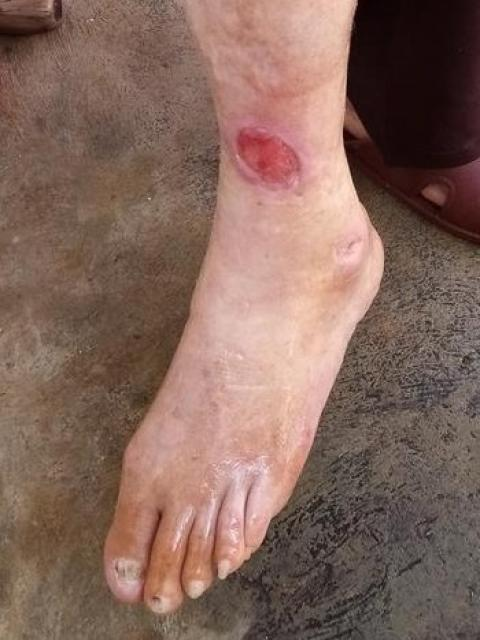wound: (234, 127, 302, 191)
